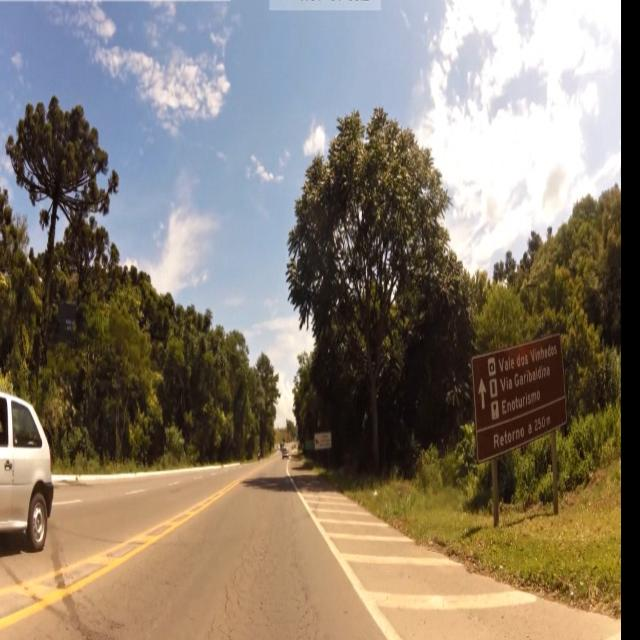TUR-4: (470, 334, 576, 465)
